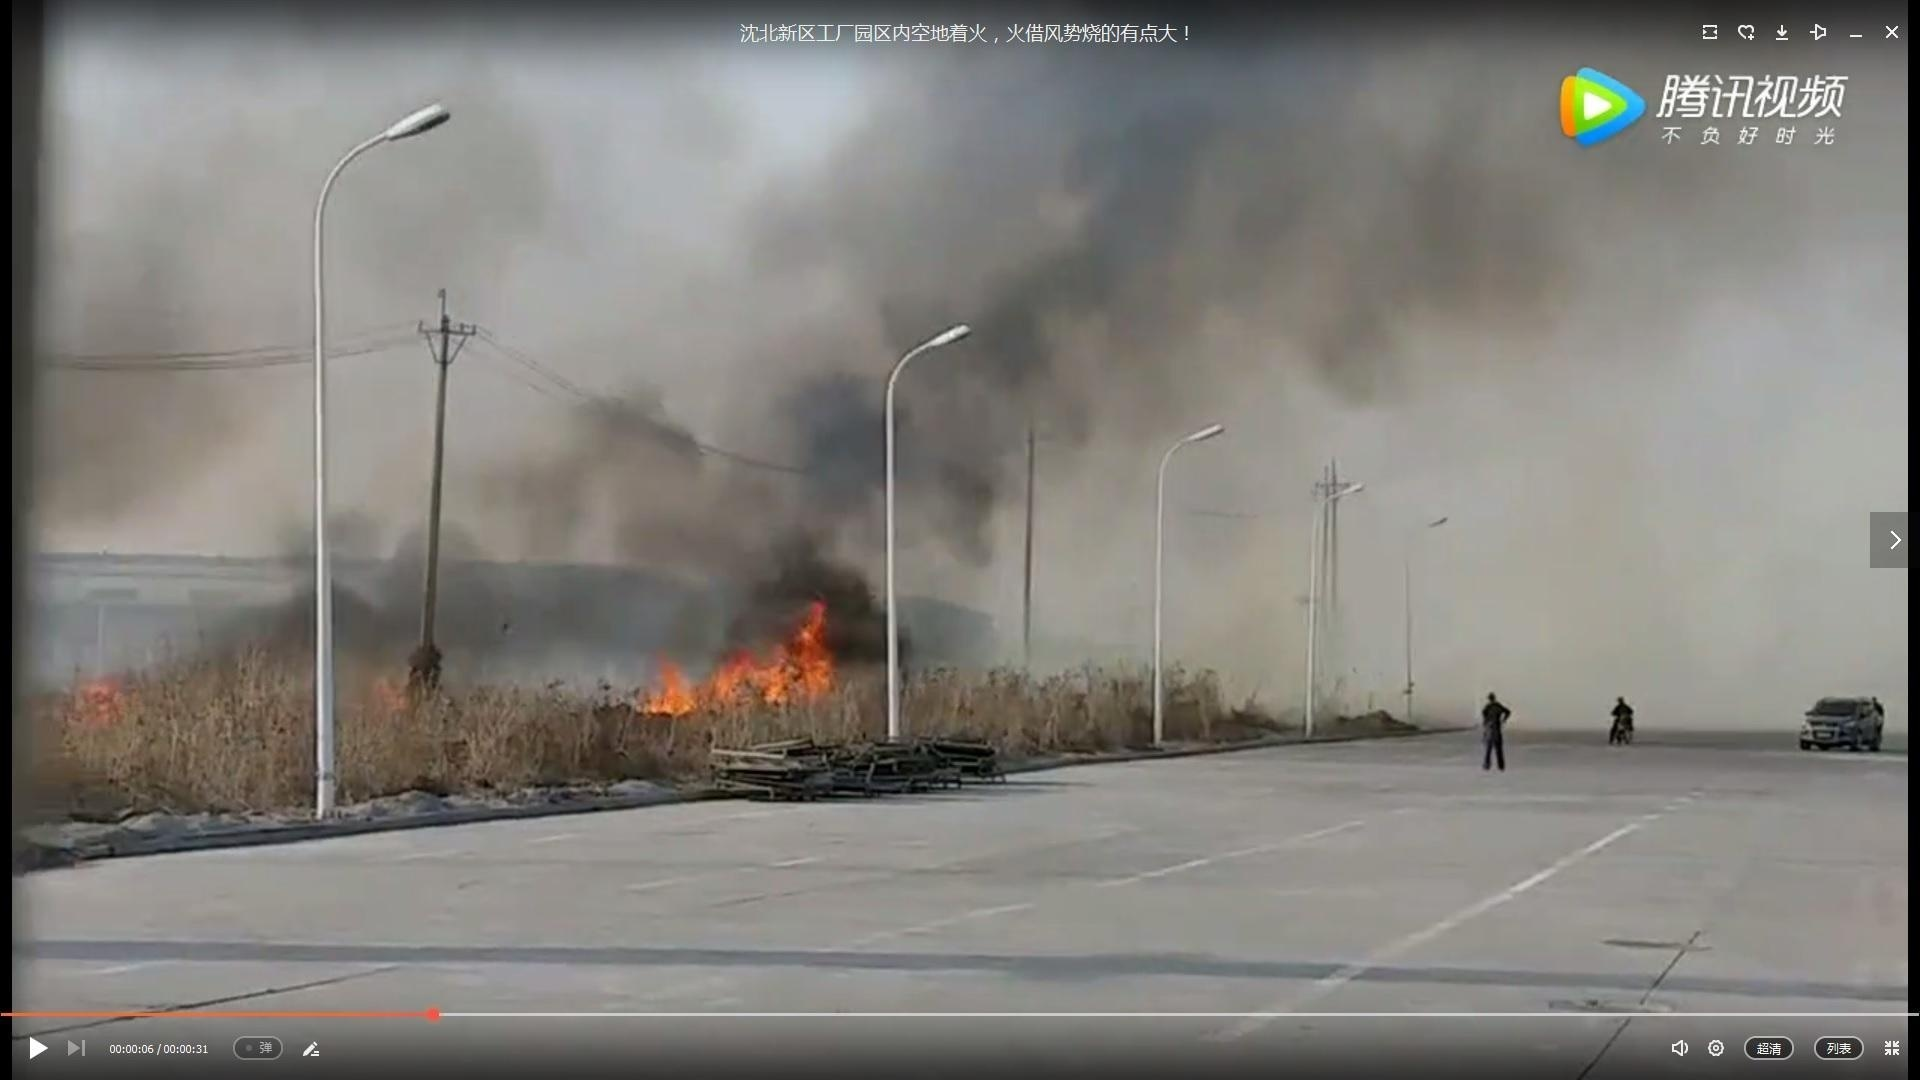fire: (632, 601, 839, 716)
